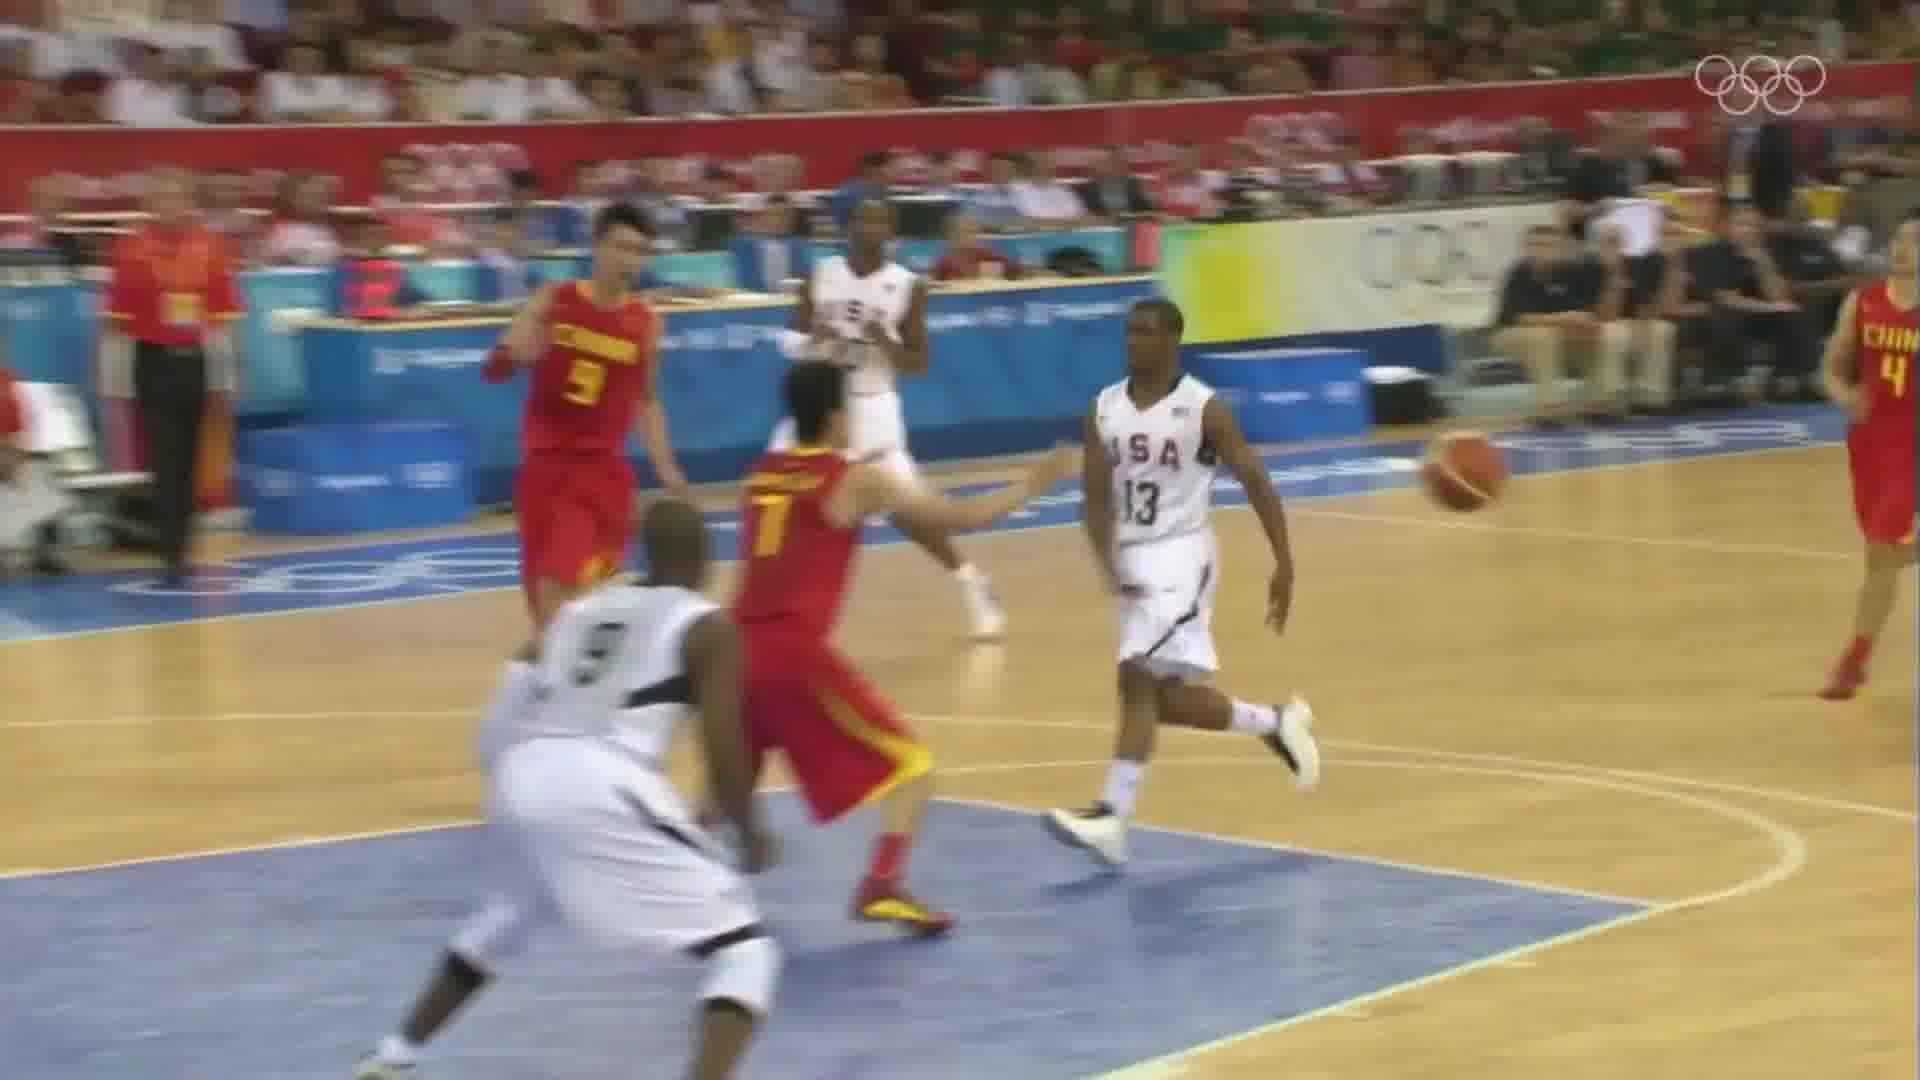ball: (1408, 419, 1516, 520)
